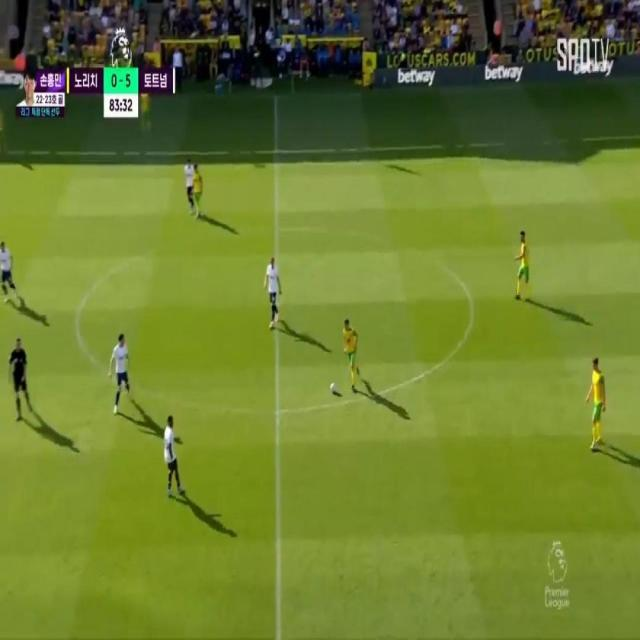ball: (324, 376, 337, 401)
player: (339, 314, 361, 388), (588, 351, 605, 445), (110, 326, 129, 409), (511, 228, 532, 303), (164, 410, 181, 492), (266, 254, 283, 334), (0, 239, 16, 299), (194, 162, 207, 216), (182, 155, 194, 210)
referee: (6, 341, 32, 421)
